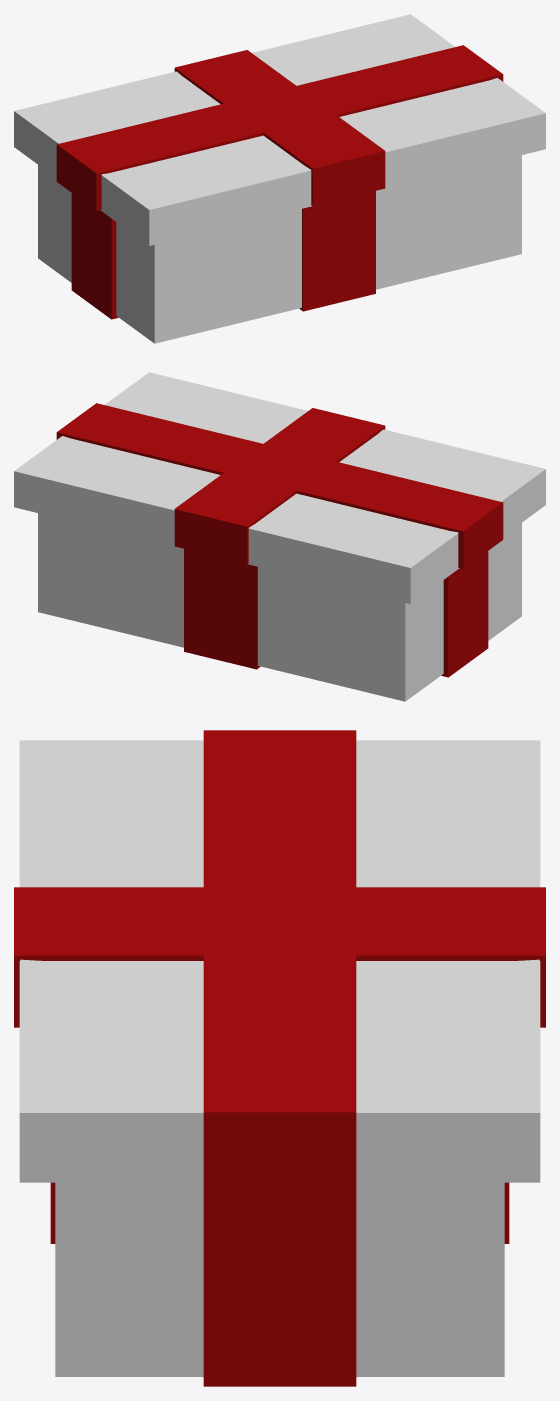
File: Rectangle Giftbox 1.fbx
The picture shows the model from 3 angles, top to bottom: view 1: azimuth 30°, elevation 25°; view 2: azimuth 150°, elevation 25°; view 3: azimuth 270°, elevation 25°; orthographic projection. The views are drawn at different scales.
Visible parts, largest first — view 1: Cube, Ribbon; view 2: Cube, Ribbon; view 3: Cube, Ribbon.
Part boxes in pixels (left/top/right/bottom): Cube: left=14, top=14, right=545, bottom=343; Ribbon: left=56, top=45, right=503, bottom=319; Cube: left=14, top=372, right=545, bottom=701; Ribbon: left=56, top=403, right=503, bottom=677; Cube: left=19, top=740, right=540, bottom=1376; Ribbon: left=14, top=730, right=545, bottom=1386.
Bounding box in the file's own units: 22.15 × 7.79 × 13.03.
